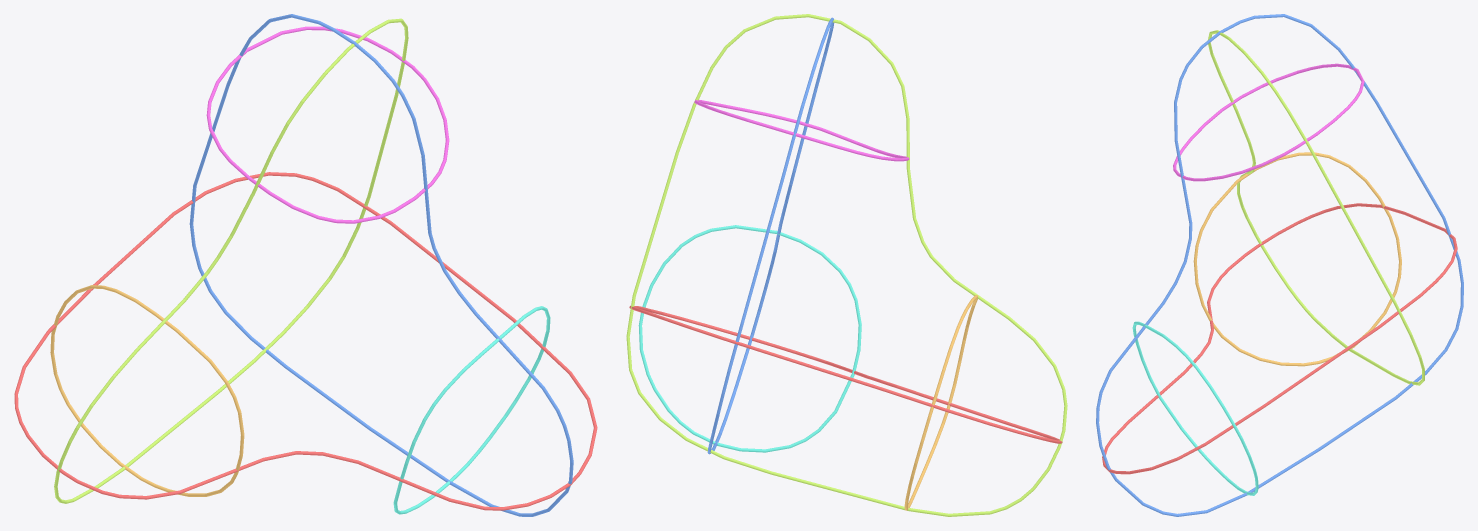
The model's file is flowrep_trebol.gltf.
The picture shows the model from 3 angles, left to right: view 1: azimuth 30°, elevation 25°; view 2: azimuth 150°, elevation 25°; view 3: azimuth 270°, elevation 25°; orthographic projection. The views are drawn at different scales.
Size of the model in its own units: 0.6366 by 0.6181 by 0.4732.
